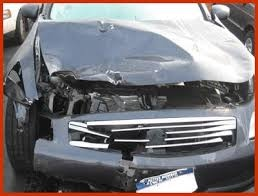Broken-glass: (22, 68, 68, 112)
Smashed: (7, 20, 254, 187)
